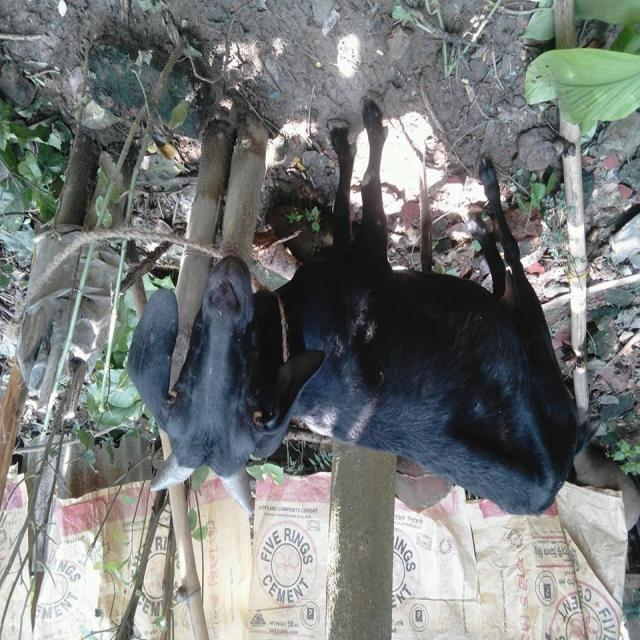Goat: (126, 99, 601, 521)
